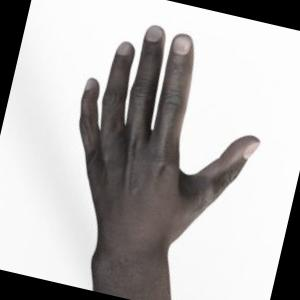paper: (79, 26, 258, 300)
